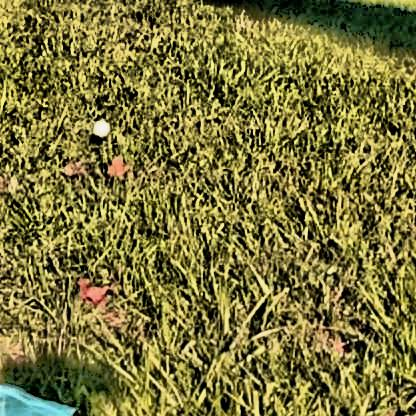golfball: (88, 115, 109, 136)
